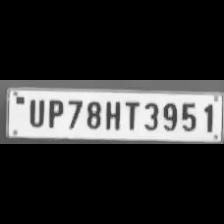1: (200, 101, 216, 133)
3: (140, 98, 160, 132)
5: (178, 100, 198, 132)
7: (64, 96, 82, 130)
8: (82, 98, 102, 130)
9: (159, 100, 177, 132)
H: (102, 97, 122, 130)
P: (44, 97, 64, 129)
T: (122, 99, 140, 131)
U: (25, 96, 45, 128)
